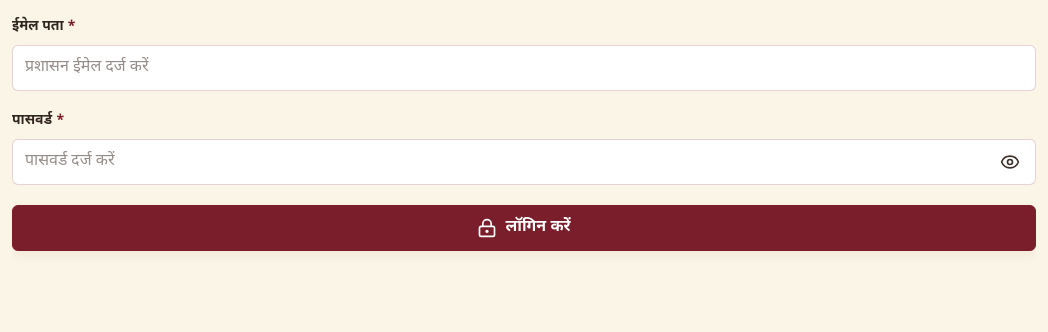
Test: AdminLoginForm › shows validation errors
The image size is (1048, 332).
Click the button "लॉगिन करें": (524,228) [12,205,1036,251]
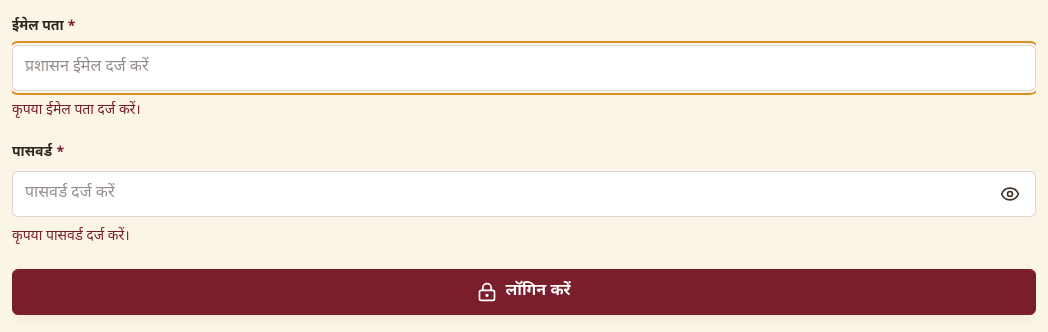
Expected: the text "कृपया ईमेल पता दर्ज करें।" is shown, [12,101,141,120]
Expected: the text "कृपया पासवर्ड दर्ज करें।" is shown, [12,227,130,246]
